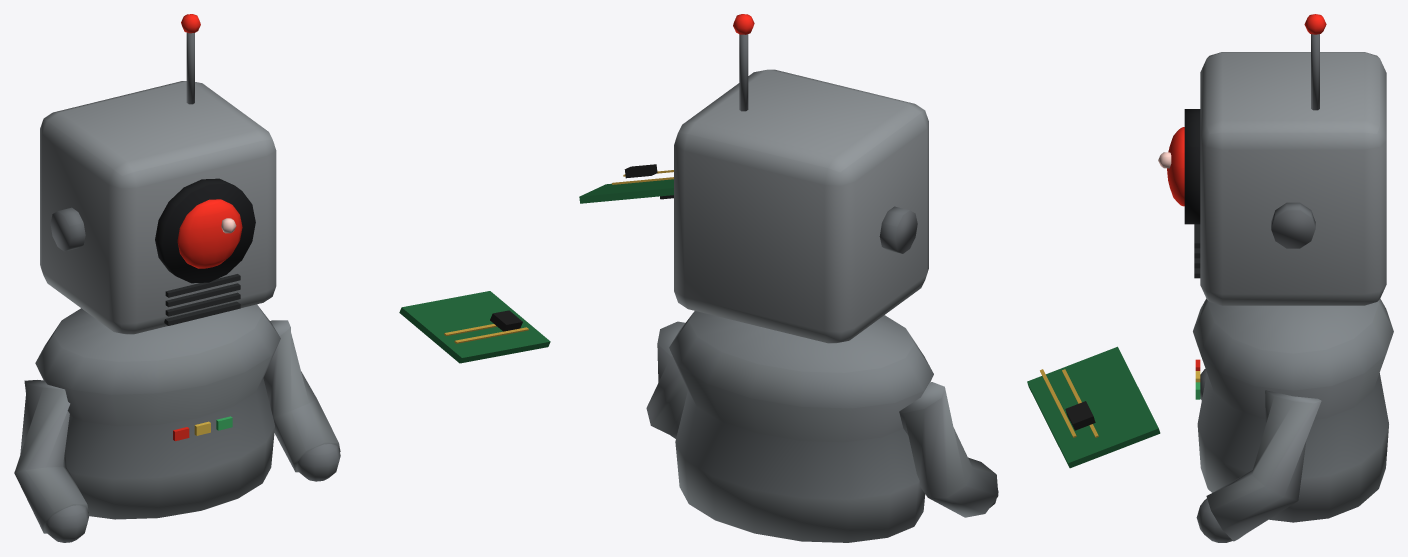
The picture shows the model from 3 angles, left to right: view 1: azimuth 30°, elevation 25°; view 2: azimuth 150°, elevation 25°; view 3: azimuth 270°, elevation 25°; orthographic projection. The views are drawn at different scales.
Parts seen in each view (by area): view 1: fig_body, fig_head, fig_float; view 2: fig_head, fig_body, fig_float; view 3: fig_head, fig_body, fig_float.
Part boxes in pixels (box(x1,y1,x2,y2)): fig_body: box(14, 304, 340, 542); fig_head: box(40, 14, 276, 334); fig_float: box(399, 291, 550, 363); fig_head: box(674, 14, 928, 343); fig_body: box(646, 311, 998, 542); fig_float: box(579, 164, 673, 203); fig_head: box(1158, 14, 1386, 305); fig_body: box(1193, 298, 1393, 542); fig_float: box(1027, 346, 1160, 468).
Bounding box in the file's own units: 1.21 × 1.2 × 0.8273.
